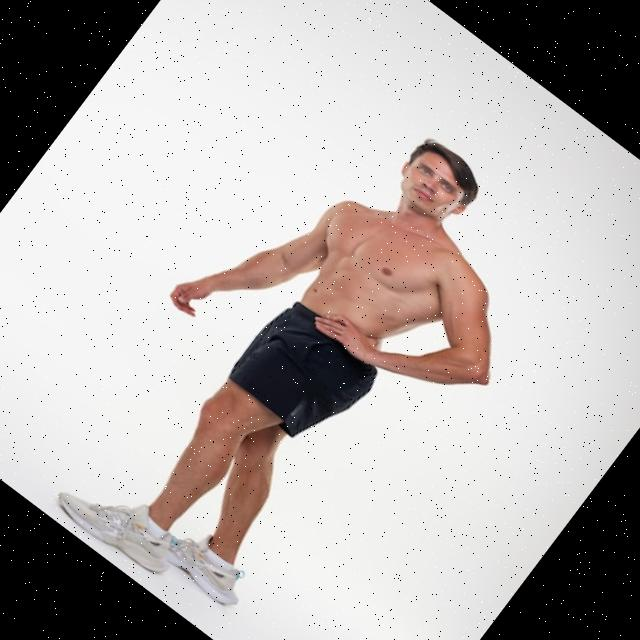Person: (27, 68, 585, 640)
